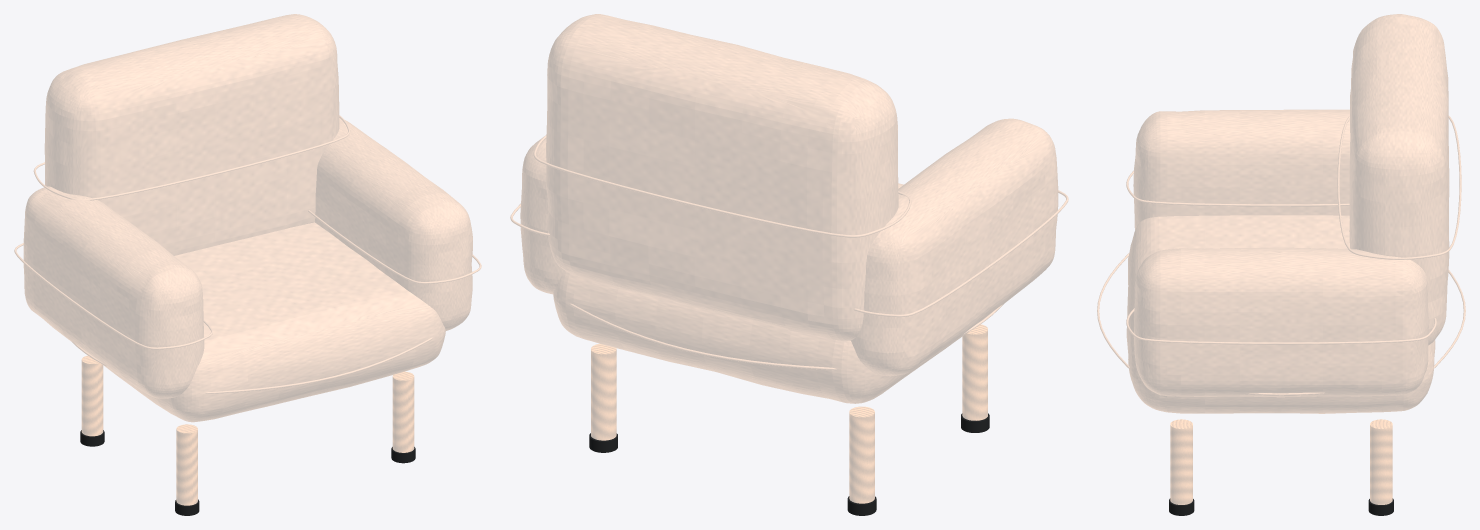
Rendered from ref05_12.glb.
3 renders of one model, left to right at view 1: azimuth 30°, elevation 25°; view 2: azimuth 150°, elevation 25°; view 3: azimuth 270°, elevation 25°, orthographic. The views are drawn at different scales.
Visible parts, largest first — view 1: ref05_12; view 2: ref05_12; view 3: ref05_12.
Part boxes in pixels (bbox=[...]): ref05_12: bbox=[14, 14, 481, 515]; ref05_12: bbox=[510, 14, 1068, 515]; ref05_12: bbox=[1097, 14, 1465, 515].
Size of the model in its own units: 0.9449 by 0.9341 by 0.8127.
3 materials, 2 textured.
